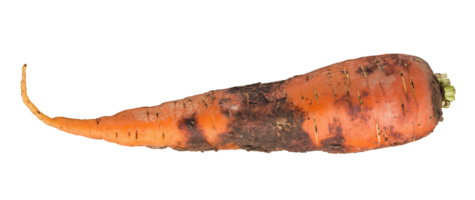rotten carrot: (9, 49, 466, 180)
